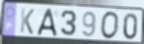0: (122, 12, 139, 41)
3: (59, 9, 78, 38)
9: (82, 10, 98, 39)
A: (36, 7, 59, 37)
K: (19, 8, 35, 36)
O: (100, 11, 121, 41)
